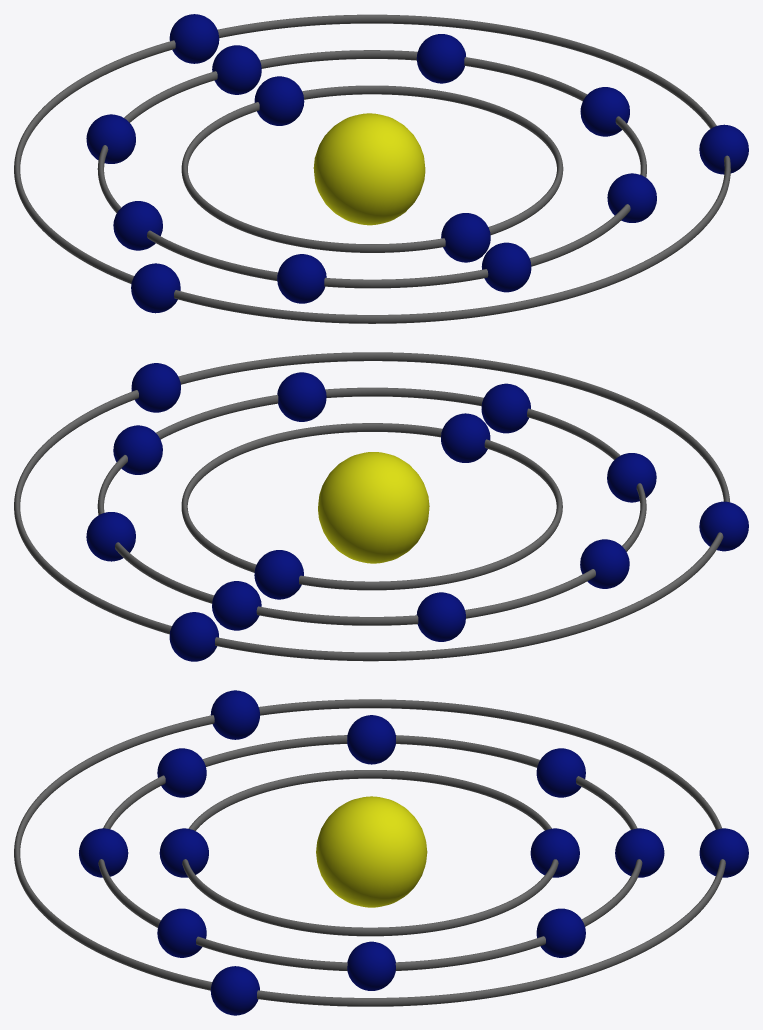
File: aluminum atom.FBX
3 views of the same model, one above another, from view 1: azimuth 30°, elevation 25°; view 2: azimuth 150°, elevation 25°; view 3: azimuth 270°, elevation 25° (orthographic).
Parts seen in each view (by area): view 1: Shape001, Sphere036, Shape002, Circle011, Sphere043, Sphere047, Sphere040, Sphere038, Sphere039, Sphere044, Sphere037, Sphere048 (+5 smaller); view 2: Shape001, Sphere036, Shape002, Circle011, Sphere045, Sphere041, Sphere044, Sphere037, Sphere038, Sphere039, Sphere040, Sphere049 (+5 smaller); view 3: Shape001, Sphere036, Shape002, Circle011, Sphere046, Sphere042, Sphere049, Sphere048, Sphere043, Sphere047, Sphere041, Sphere045 (+5 smaller).
Boxes of the visible parts, x1,y1,x2,y2 form: Shape001: [14, 14, 730, 323]; Sphere036: [313, 113, 425, 225]; Shape002: [97, 50, 646, 288]; Circle011: [181, 85, 563, 252]; Sphere043: [277, 254, 326, 303]; Sphere047: [416, 34, 465, 83]; Sphere040: [441, 213, 490, 262]; Sphere038: [212, 45, 261, 94]; Sphere039: [254, 76, 304, 125]; Sphere044: [481, 242, 531, 292]; Sphere037: [169, 14, 219, 63]; Sphere048: [131, 263, 180, 313]; Shape001: [14, 352, 729, 661]; Sphere036: [318, 452, 429, 563]; Shape002: [97, 387, 646, 625]; Circle011: [181, 423, 562, 590]; Sphere045: [277, 372, 326, 421]; Sphere041: [416, 592, 465, 641]; Sphere044: [481, 383, 530, 433]; Sphere037: [169, 612, 218, 661]; Sphere038: [212, 581, 261, 630]; Sphere039: [254, 550, 303, 599]; Sphere040: [441, 413, 490, 462]; Sphere049: [131, 363, 180, 412]; Shape001: [14, 699, 725, 1006]; Sphere036: [316, 796, 427, 907]; Shape002: [98, 735, 642, 971]; Circle011: [182, 770, 558, 936]; Sphere046: [347, 941, 395, 990]; Sphere042: [347, 715, 395, 764]; Sphere049: [210, 966, 259, 1015]; Sphere048: [210, 690, 259, 739]; Sphere043: [157, 748, 206, 797]; Sphere047: [536, 908, 585, 957]; Sphere041: [536, 748, 585, 797]; Sphere045: [157, 908, 206, 957].
Size of the model in its own units: 115 by 18 by 119.
